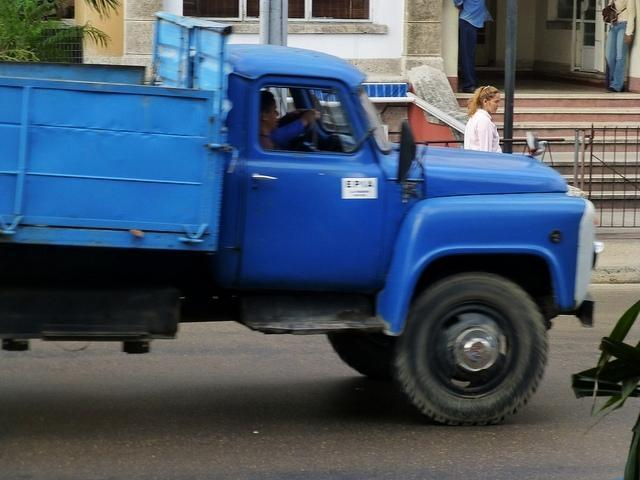truck: (4, 11, 600, 427)
